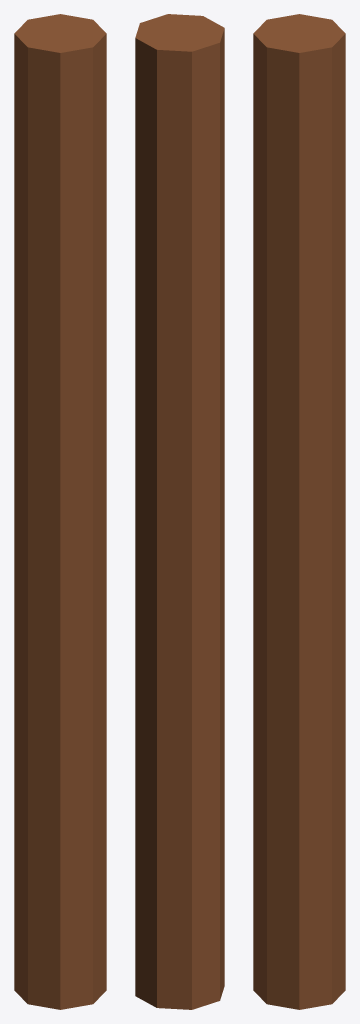
File: env_mic_026.glb
3 views of the same model, side by side, from view 1: azimuth 90°, elevation 25°; view 2: azimuth 150°, elevation 25°; view 3: azimuth 270°, elevation 25° (orthographic).
Parts seen in each view (by area): view 1: upright.003; view 2: upright.003; view 3: upright.003.
Part boxes in pixels (box(x1,y1,x2,y2)): upright.003: box(14, 14, 106, 1009); upright.003: box(135, 14, 224, 1009); upright.003: box(253, 14, 345, 1009).
Size of the model in its own units: 0.14 by 1.6 by 0.14.
